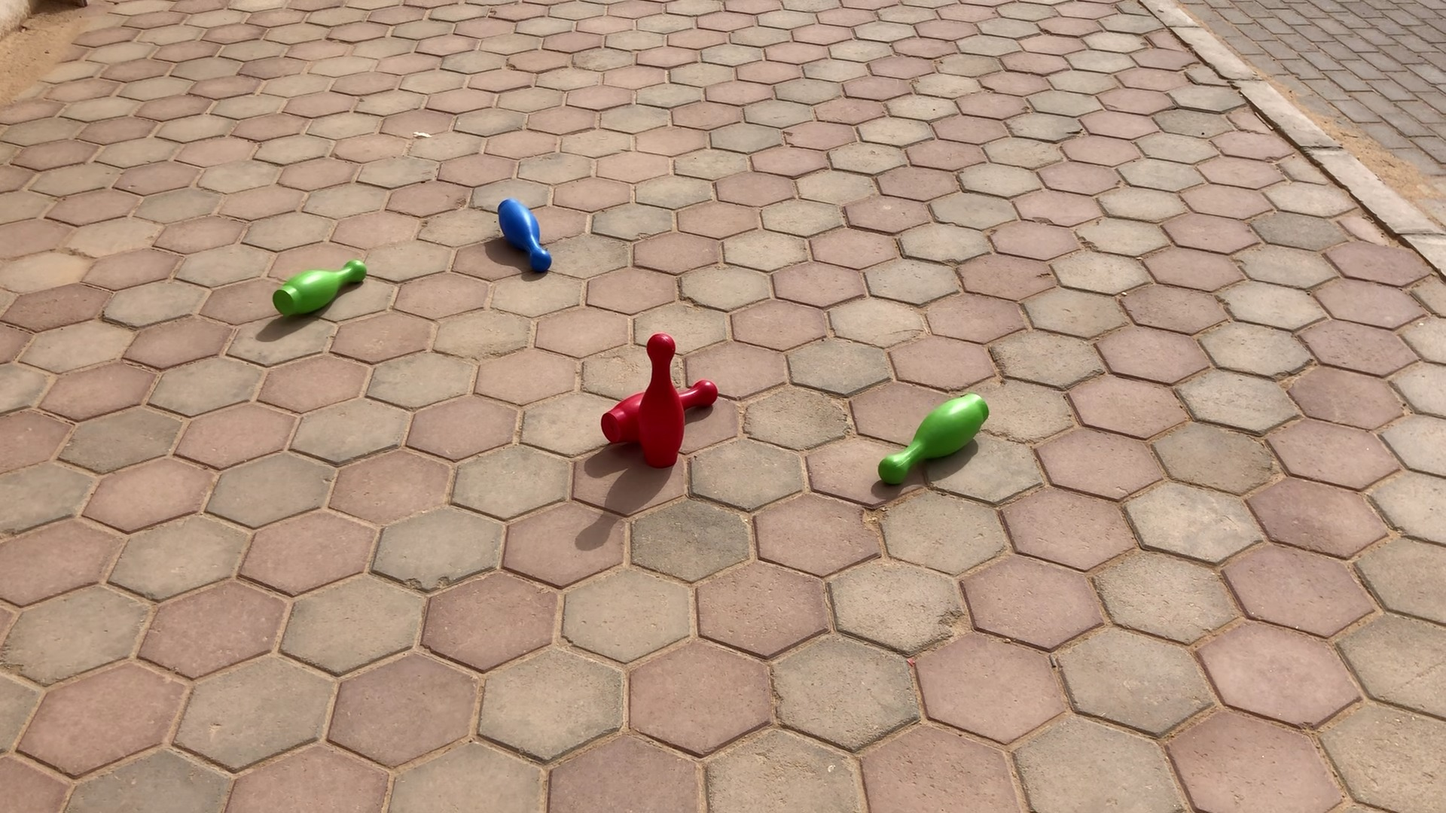pin: (609, 332, 700, 465), (879, 397, 986, 481), (270, 259, 364, 317), (497, 199, 553, 270)
